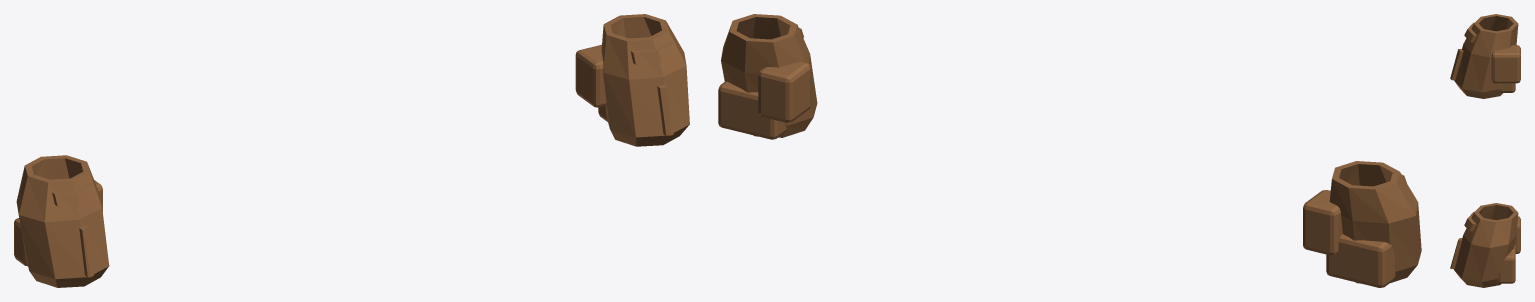
File: leather_hands-male.glb
3 views of the same model, side by side, from view 1: azimuth 30°, elevation 25°; view 2: azimuth 150°, elevation 25°; view 3: azimuth 270°, elevation 25° (orthographic). The views are drawn at different scales.
Visible parts, largest first — view 1: Block hand armor -1, Block hand armor 1, Block thumb armor 1, Glove turned wrist seam 1, Glove turned wrist seam -1, Glove back seam 1, Glove back seam -1; view 2: Block hand armor -1, Block hand armor 1, Block thumb armor 1, Block hand curl armor -1, Block hand curl armor 1, Block thumb armor -1; view 3: Block hand armor 1, Block hand armor -1, Block thumb armor -1, Block hand curl armor 1, Glove back seam -1, Block thumb armor 1, Glove back seam 1, Glove turned wrist seam -1, Block hand curl armor -1, Glove turned wrist seam 1.
Part boxes in pixels (x1=…): Block hand armor -1: x1=16, y1=155, x2=109, y2=287; Block hand armor 1: x1=601, y1=14, x2=689, y2=146; Block thumb armor 1: x1=575, y1=44, x2=606, y2=107; Glove turned wrist seam 1: x1=630, y1=41, x2=676, y2=64; Glove turned wrist seam -1: x1=52, y1=182, x2=96, y2=206; Glove back seam 1: x1=657, y1=85, x2=673, y2=135; Glove back seam -1: x1=79, y1=225, x2=94, y2=277; Block hand armor -1: x1=1329, y1=161, x2=1421, y2=283; Block hand armor 1: x1=721, y1=14, x2=817, y2=137; Block thumb armor 1: x1=758, y1=61, x2=810, y2=122; Block hand curl armor -1: x1=1326, y1=234, x2=1395, y2=287; Block hand curl armor 1: x1=718, y1=81, x2=786, y2=139; Block thumb armor -1: x1=1303, y1=190, x2=1342, y2=255; Block hand armor 1: x1=1453, y1=203, x2=1518, y2=287; Block hand armor -1: x1=1454, y1=14, x2=1518, y2=98; Block thumb armor -1: x1=1491, y1=45, x2=1520, y2=83; Block hand curl armor 1: x1=1497, y1=245, x2=1515, y2=283; Glove back seam -1: x1=1450, y1=49, x2=1463, y2=80; Block thumb armor 1: x1=1514, y1=216, x2=1520, y2=253; Glove back seam 1: x1=1450, y1=238, x2=1462, y2=268; Glove turned wrist seam -1: x1=1464, y1=22, x2=1477, y2=42; Block hand curl armor -1: x1=1500, y1=83, x2=1515, y2=92; Glove turned wrist seam 1: x1=1464, y1=211, x2=1476, y2=231.
Size of the model in its own units: 3.7 by 0.52 by 0.509.
